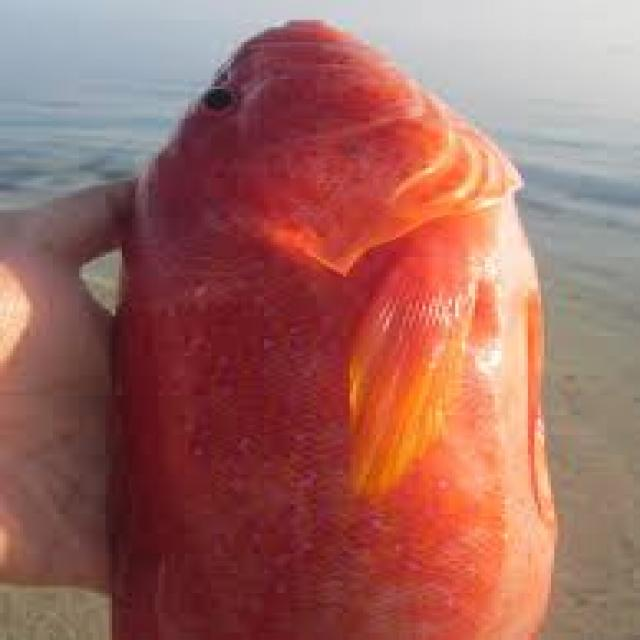Plectropomus-leopardus: (120, 24, 565, 640)
